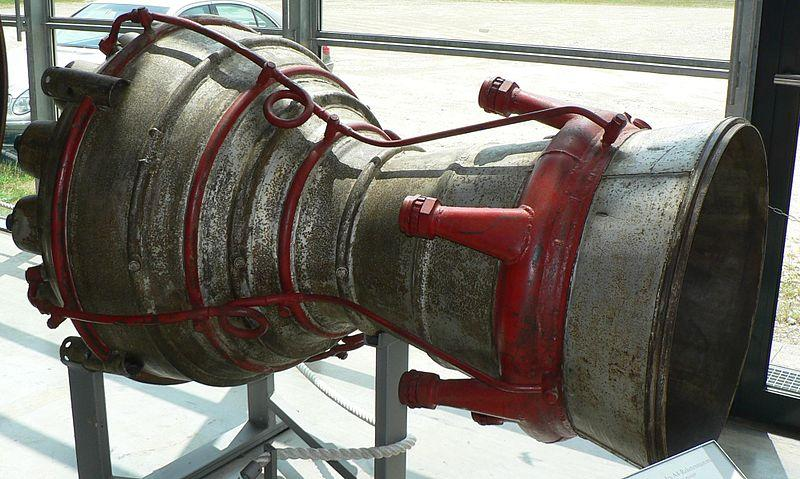thruster: (365, 114, 777, 470), (35, 12, 373, 388)
